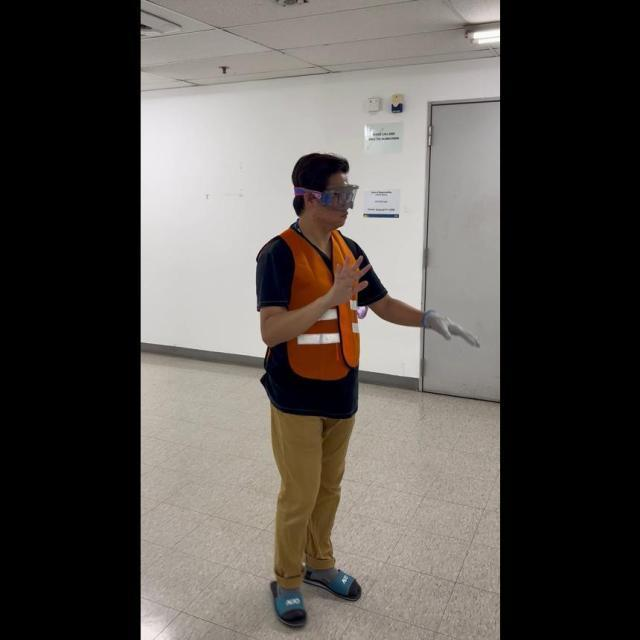bare_hand: (319, 246, 371, 304)
gloved_hand: (420, 304, 479, 351)
